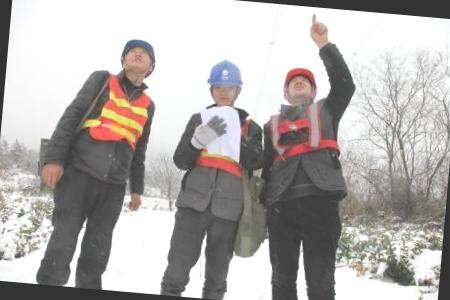helmet: (204, 54, 252, 92)
no_vest: (261, 91, 346, 176)
person: (26, 28, 163, 293), (157, 51, 273, 300), (250, 50, 359, 300)
